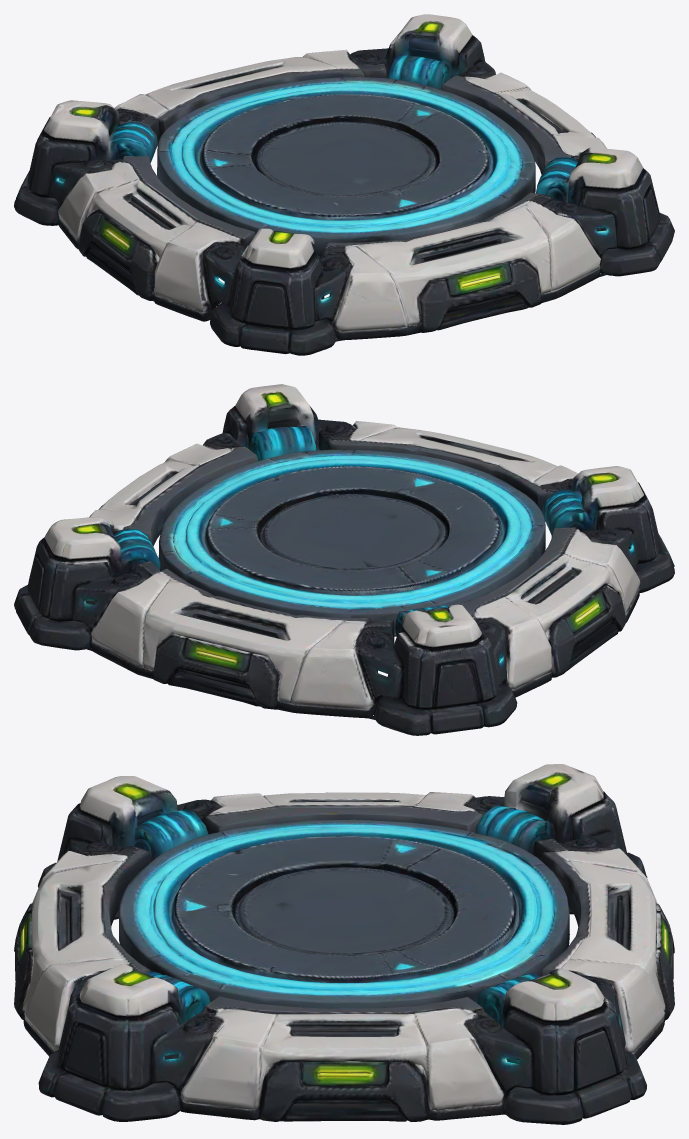
File: model-18-pressure-pad.glb
3 views of the same model, one above another, from view 1: azimuth 30°, elevation 25°; view 2: azimuth 150°, elevation 25°; view 3: azimuth 270°, elevation 25° (orthographic). The views are drawn at different scales.
Visible parts, largest first — view 1: node_0; view 2: node_0; view 3: node_0.
Boxes of the visible parts, x1,y1,x2,y2 form: node_0: (14,14,674,355); node_0: (14,384,674,735); node_0: (14,764,674,1124).
Size of the model in its own units: 0.9815 by 0.1733 by 0.9832.
1 material, 1 textured.
